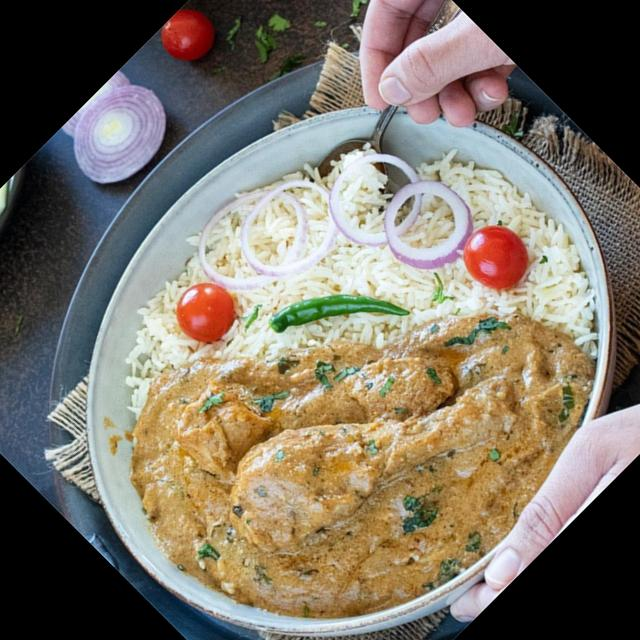chicken: (70, 206, 582, 640)
rice: (145, 162, 587, 388)
